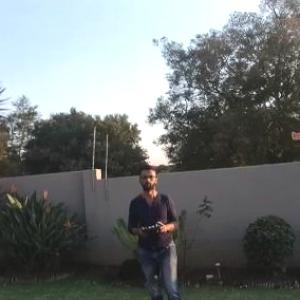follow: (124, 154, 187, 299)
